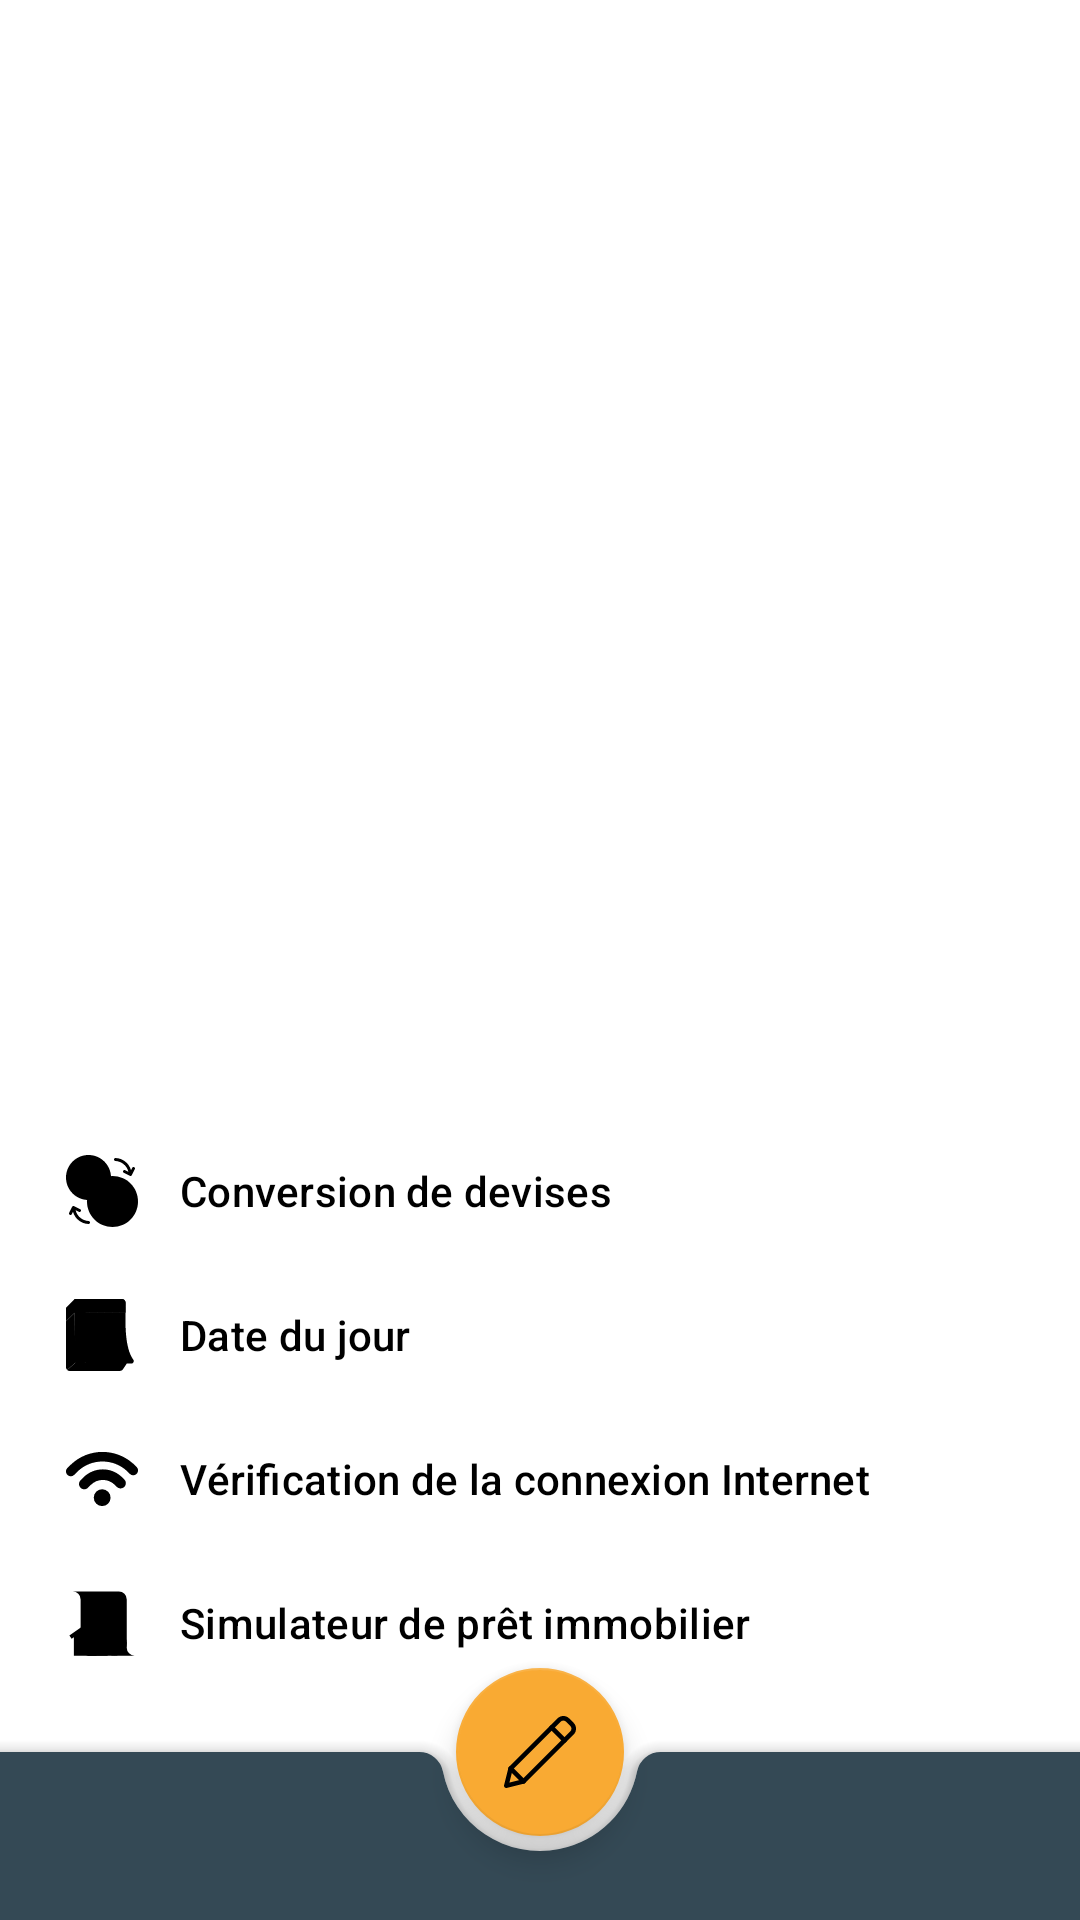

Icon click points for this 1080x1920 phone screenshot, format point (x, y):
Ajout/modification d'un bien: point (540, 1752)
